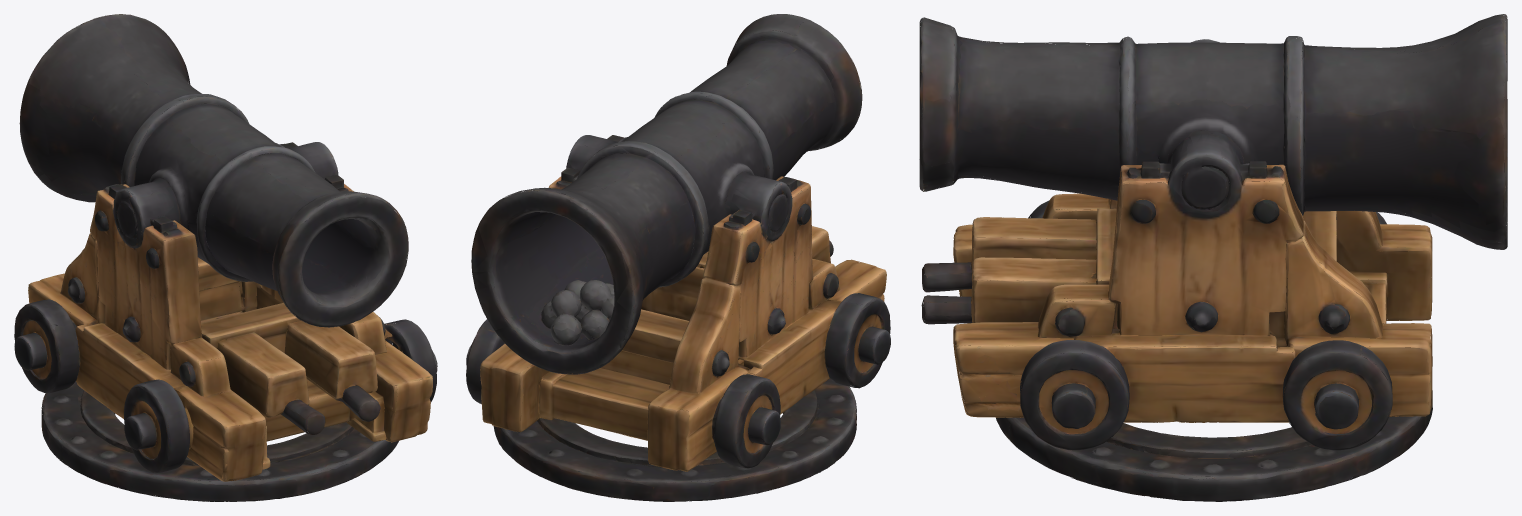
File: grapeshot_turret.glb
3 renders of one model, left to right at view 1: azimuth 30°, elevation 25°; view 2: azimuth 150°, elevation 25°; view 3: azimuth 270°, elevation 25°, orthographic. The views are drawn at different scales.
Parts seen in each view (by area): view 1: head, gun, base; view 2: head, gun, base; view 3: head, gun, base.
Part boxes in pixels (left/top/right/bottom): head: left=14, top=59, right=437, bottom=481; gun: left=29, top=14, right=408, bottom=327; base: left=41, top=381, right=398, bottom=501; head: left=466, top=135, right=890, bottom=471; gun: left=473, top=14, right=862, bottom=349; base: left=493, top=378, right=856, bottom=501; head: left=921, top=39, right=1507, bottom=453; gun: left=919, top=14, right=1507, bottom=236; base: left=996, top=390, right=1432, bottom=501.
Size of the model in its own units: 1.65 by 1.6 by 2.21.
1 material, 1 textured.
